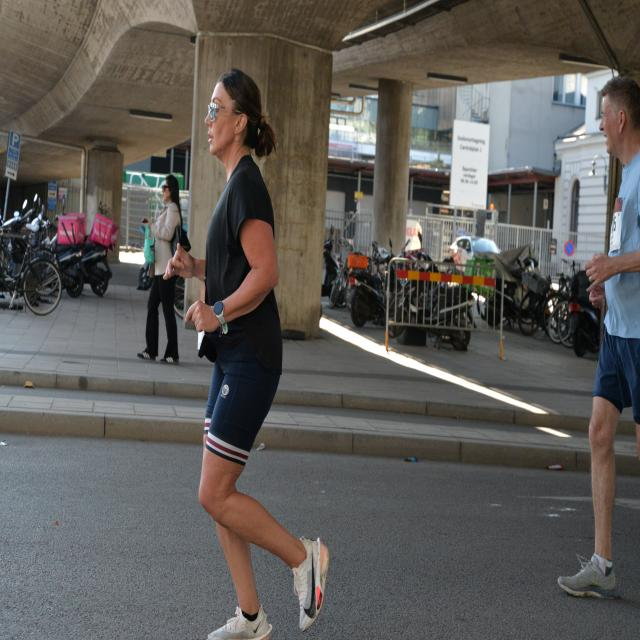runner-detect: (181, 51, 339, 638), (546, 54, 639, 605)
